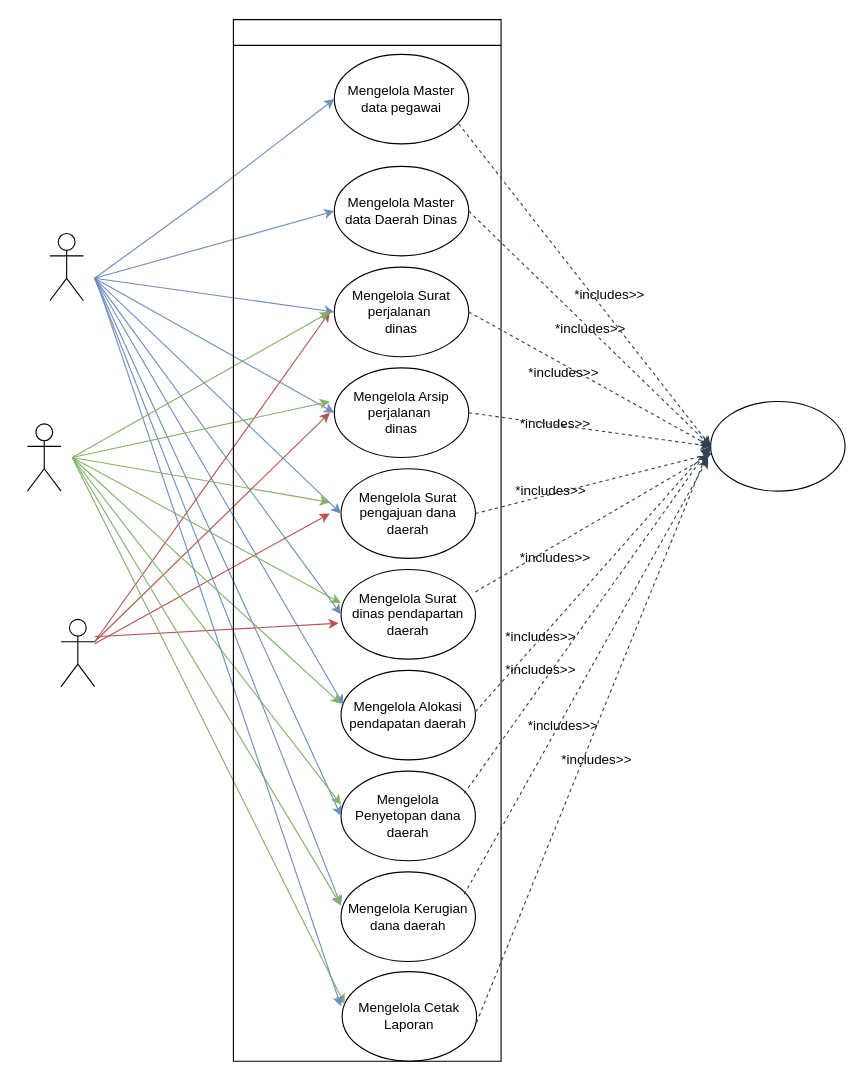
This 865x1081 diagram has some shape labels left out. Here are the shapes that lost their labels. From the top down, the centre of each, then its label:
At pixel 66 266: "Admin".
At pixel 43 457: "Petugas".
At pixel 777 445: "Login".
At pixel 366 539: "System Aplikasi Bapenda".
At pixel 77 652: "Pimpinan".
